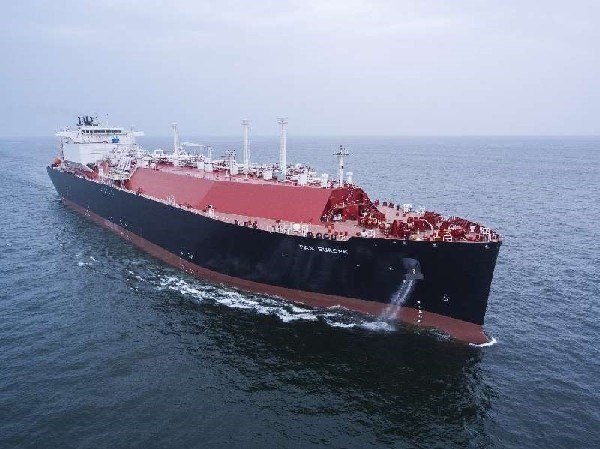Cargoship: (44, 102, 507, 344)
